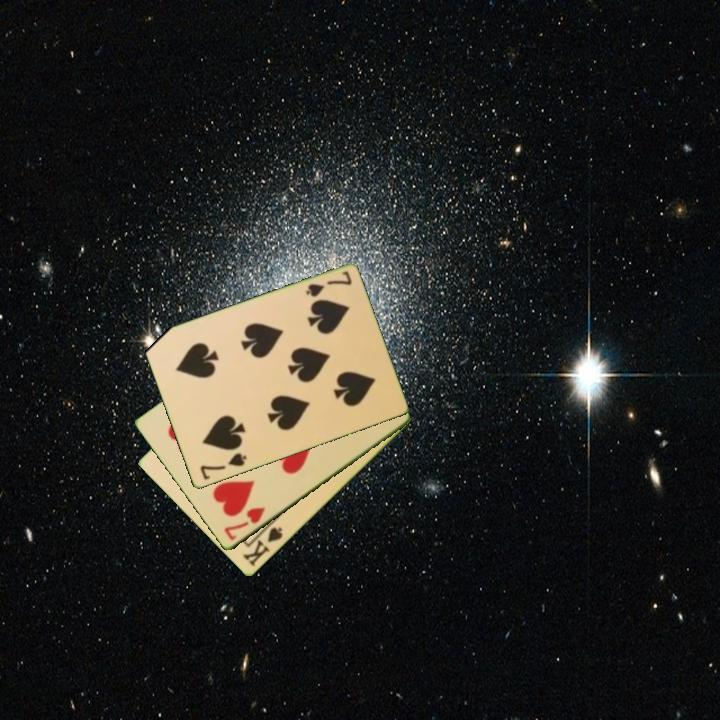7h: (220, 504, 268, 544)
7s: (196, 450, 250, 483), (302, 268, 355, 300)
Ks: (239, 518, 286, 570)
